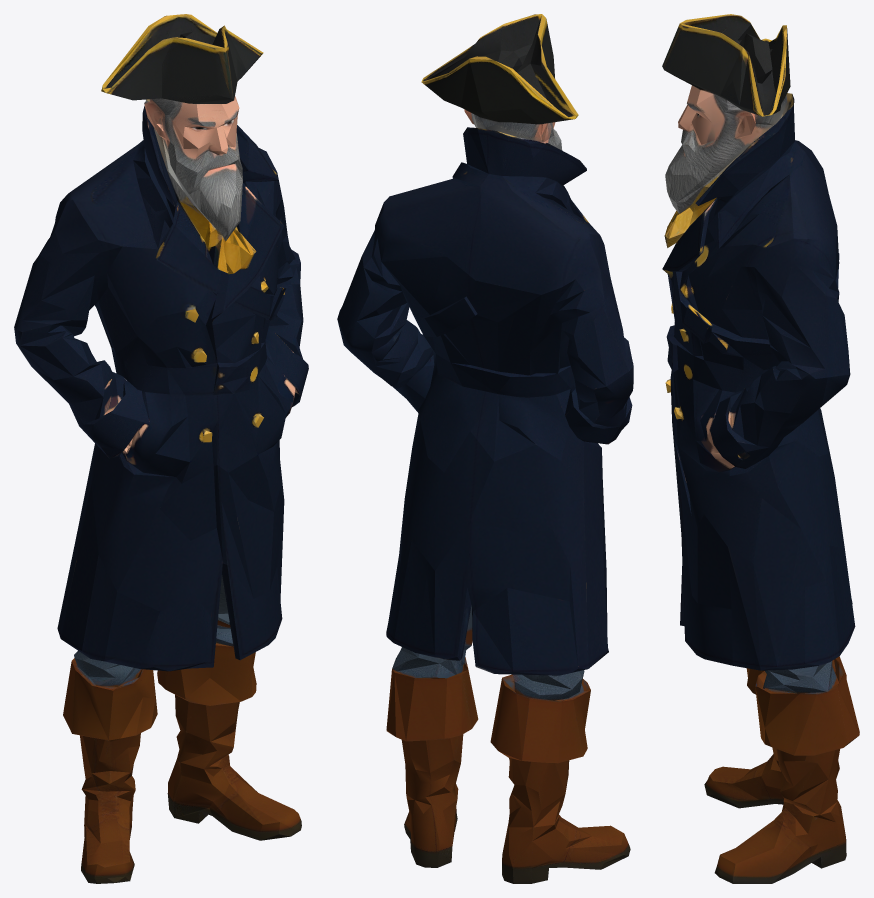
The model's file is captain.glb.
3 renders of one model, left to right at view 1: azimuth 30°, elevation 25°; view 2: azimuth 150°, elevation 25°; view 3: azimuth 270°, elevation 25°, orthographic. The views are drawn at different scales.
Size of the model in its own units: 0.6959 by 1.9 by 0.4173.
1 material, 1 textured.
